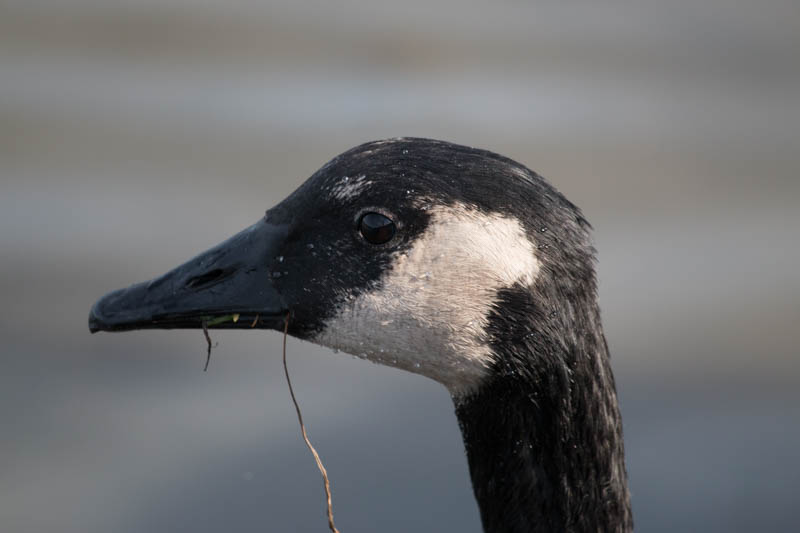goose-head: (88, 137, 599, 400)
